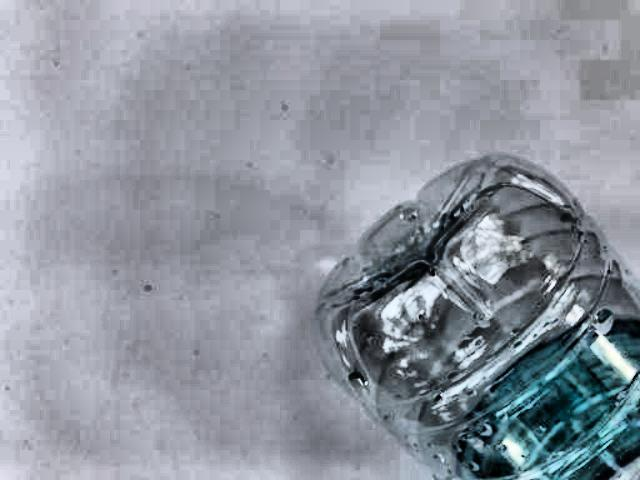Bottles: (309, 141, 640, 480)
